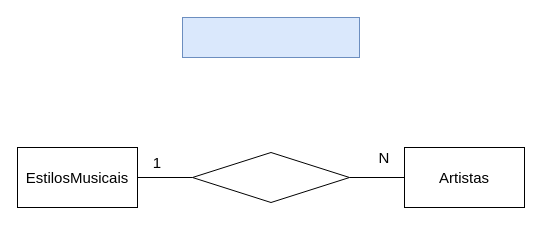
The diagram is 542 pixels wide and 225 high, and some of its shapes have lost their labels. Each missing label, with the centre of its shape:
"Conceitual" goes at point (271, 37).
"tem" goes at point (271, 177).
